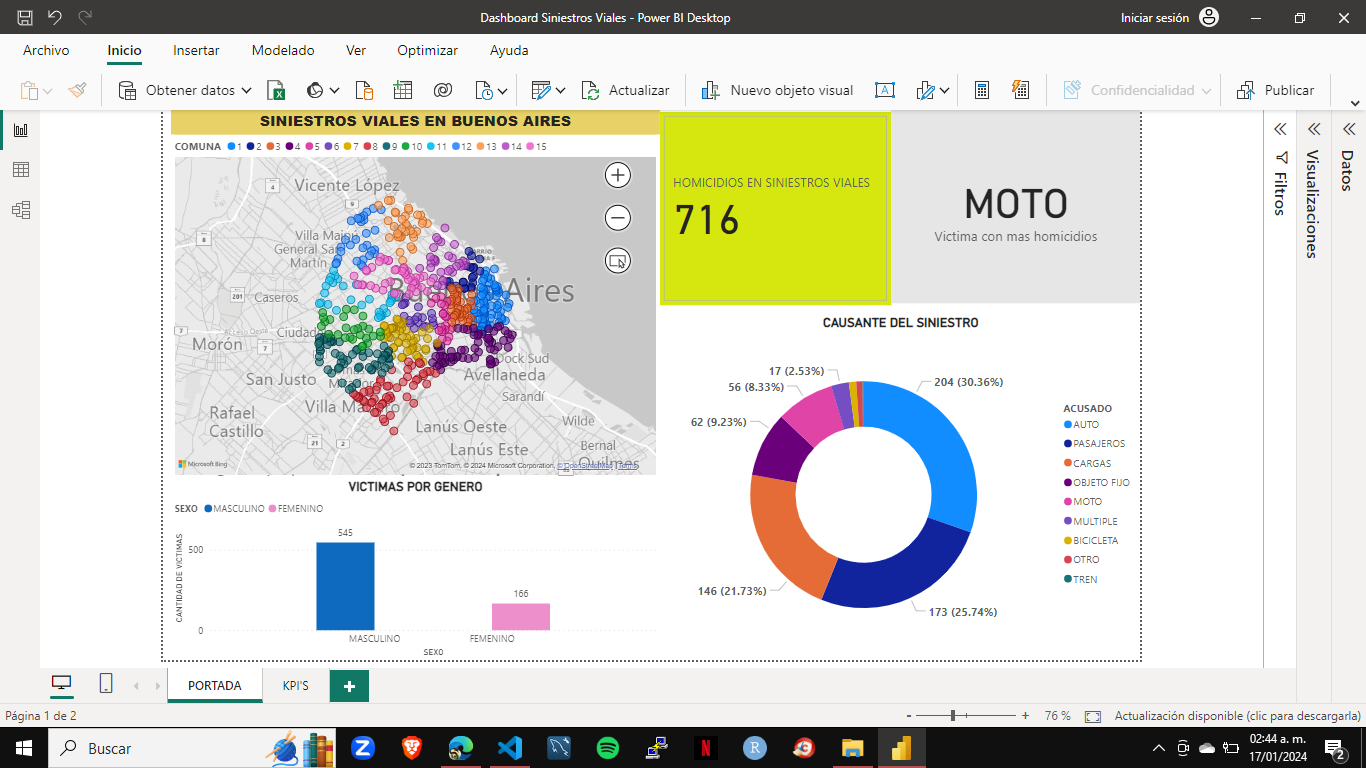

Layout of this report page (visuals, bound fields, positions):
{"tool":"powerbi","page":{"name":"PORTADA","canvas":[1280,720],"ordinal":0},"visuals":[{"type":"map","title":"SINIESTROS VIALES EN BUENOS AIRES","fields":{"X":["HECHOS.pos x"],"Y":["HECHOS.pos y"],"Series":["HECHOS.COMUNA"]},"box":[10,0,640,482.9],"z":0},{"type":"cardVisual","fields":{"Data":["Sum(HECHOS.N_VICTIMAS)"]},"box":[650,3,302.9,252.9],"z":1000},{"type":"donutChart","title":"CAUSANTE DEL SINIESTRO ","fields":{"Category":["HECHOS.ACUSADO"],"Y":["CountNonNull(HECHOS.ACUSADO)"]},"box":[650,268.6,630,451.4],"z":2000},{"type":"clusteredColumnChart","title":"VICTIMAS POR GENERO ","fields":{"Category":["HOMICIDIOS VICTIMAS.SEXO"],"Y":["CountNonNull(HOMICIDIOS VICTIMAS.SEXO)"],"Series":["HOMICIDIOS VICTIMAS.SEXO"]},"box":[10,483,640,237],"z":3000},{"type":"card","fields":{"Values":["HOMICIDIOS VICTIMAS.Victima_Mas_Repetida"]},"box":[953,0,327,253],"z":4000}]}

Visuals, with their boxes on the page's 1280x720 design canvas (x1, y1, x2, y2). These are canvas units, not pixel positions in the 1366x768 screenshot, which may show the page scaled, cropped or inside an application window:
"SINIESTROS VIALES EN BUENOS AIRES" map: x1=10, y1=0, x2=650, y2=483
cardVisual - Sum(HECHOS.N_VICTIMAS): x1=650, y1=3, x2=953, y2=256
"CAUSANTE DEL SINIESTRO " donutChart: x1=650, y1=269, x2=1280, y2=720
"VICTIMAS POR GENERO " clusteredColumnChart: x1=10, y1=483, x2=650, y2=720
card - HOMICIDIOS VICTIMAS.Victima_Mas_Repetida: x1=953, y1=0, x2=1280, y2=253
